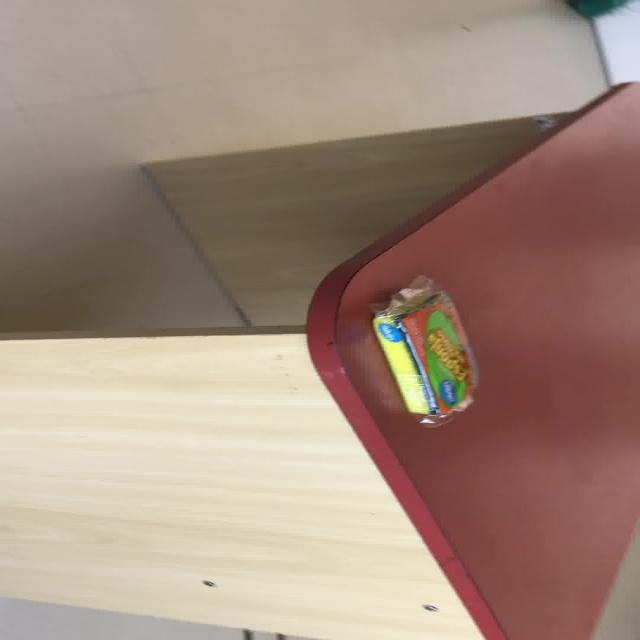sponge: (368, 274, 477, 427)
